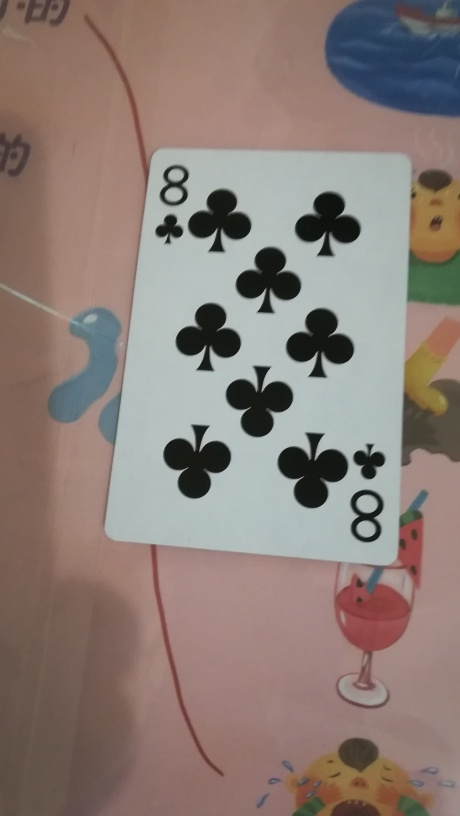mh 8: (104, 143, 402, 568)
